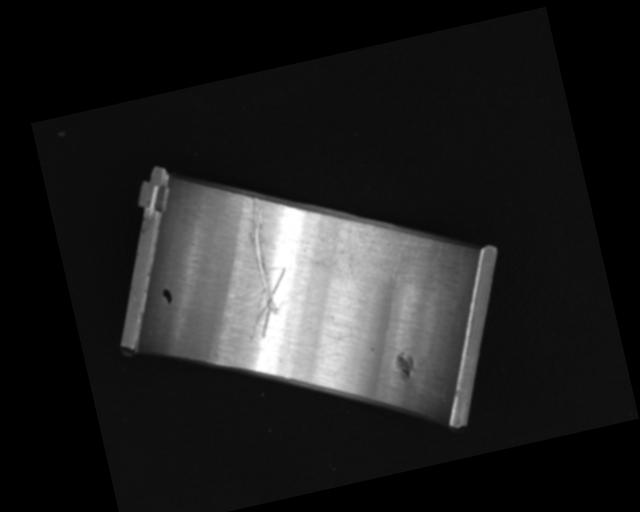blot: (159, 286, 175, 307)
bruise: (393, 349, 418, 383)
nick: (220, 191, 302, 340)
scratch: (323, 201, 450, 297)
